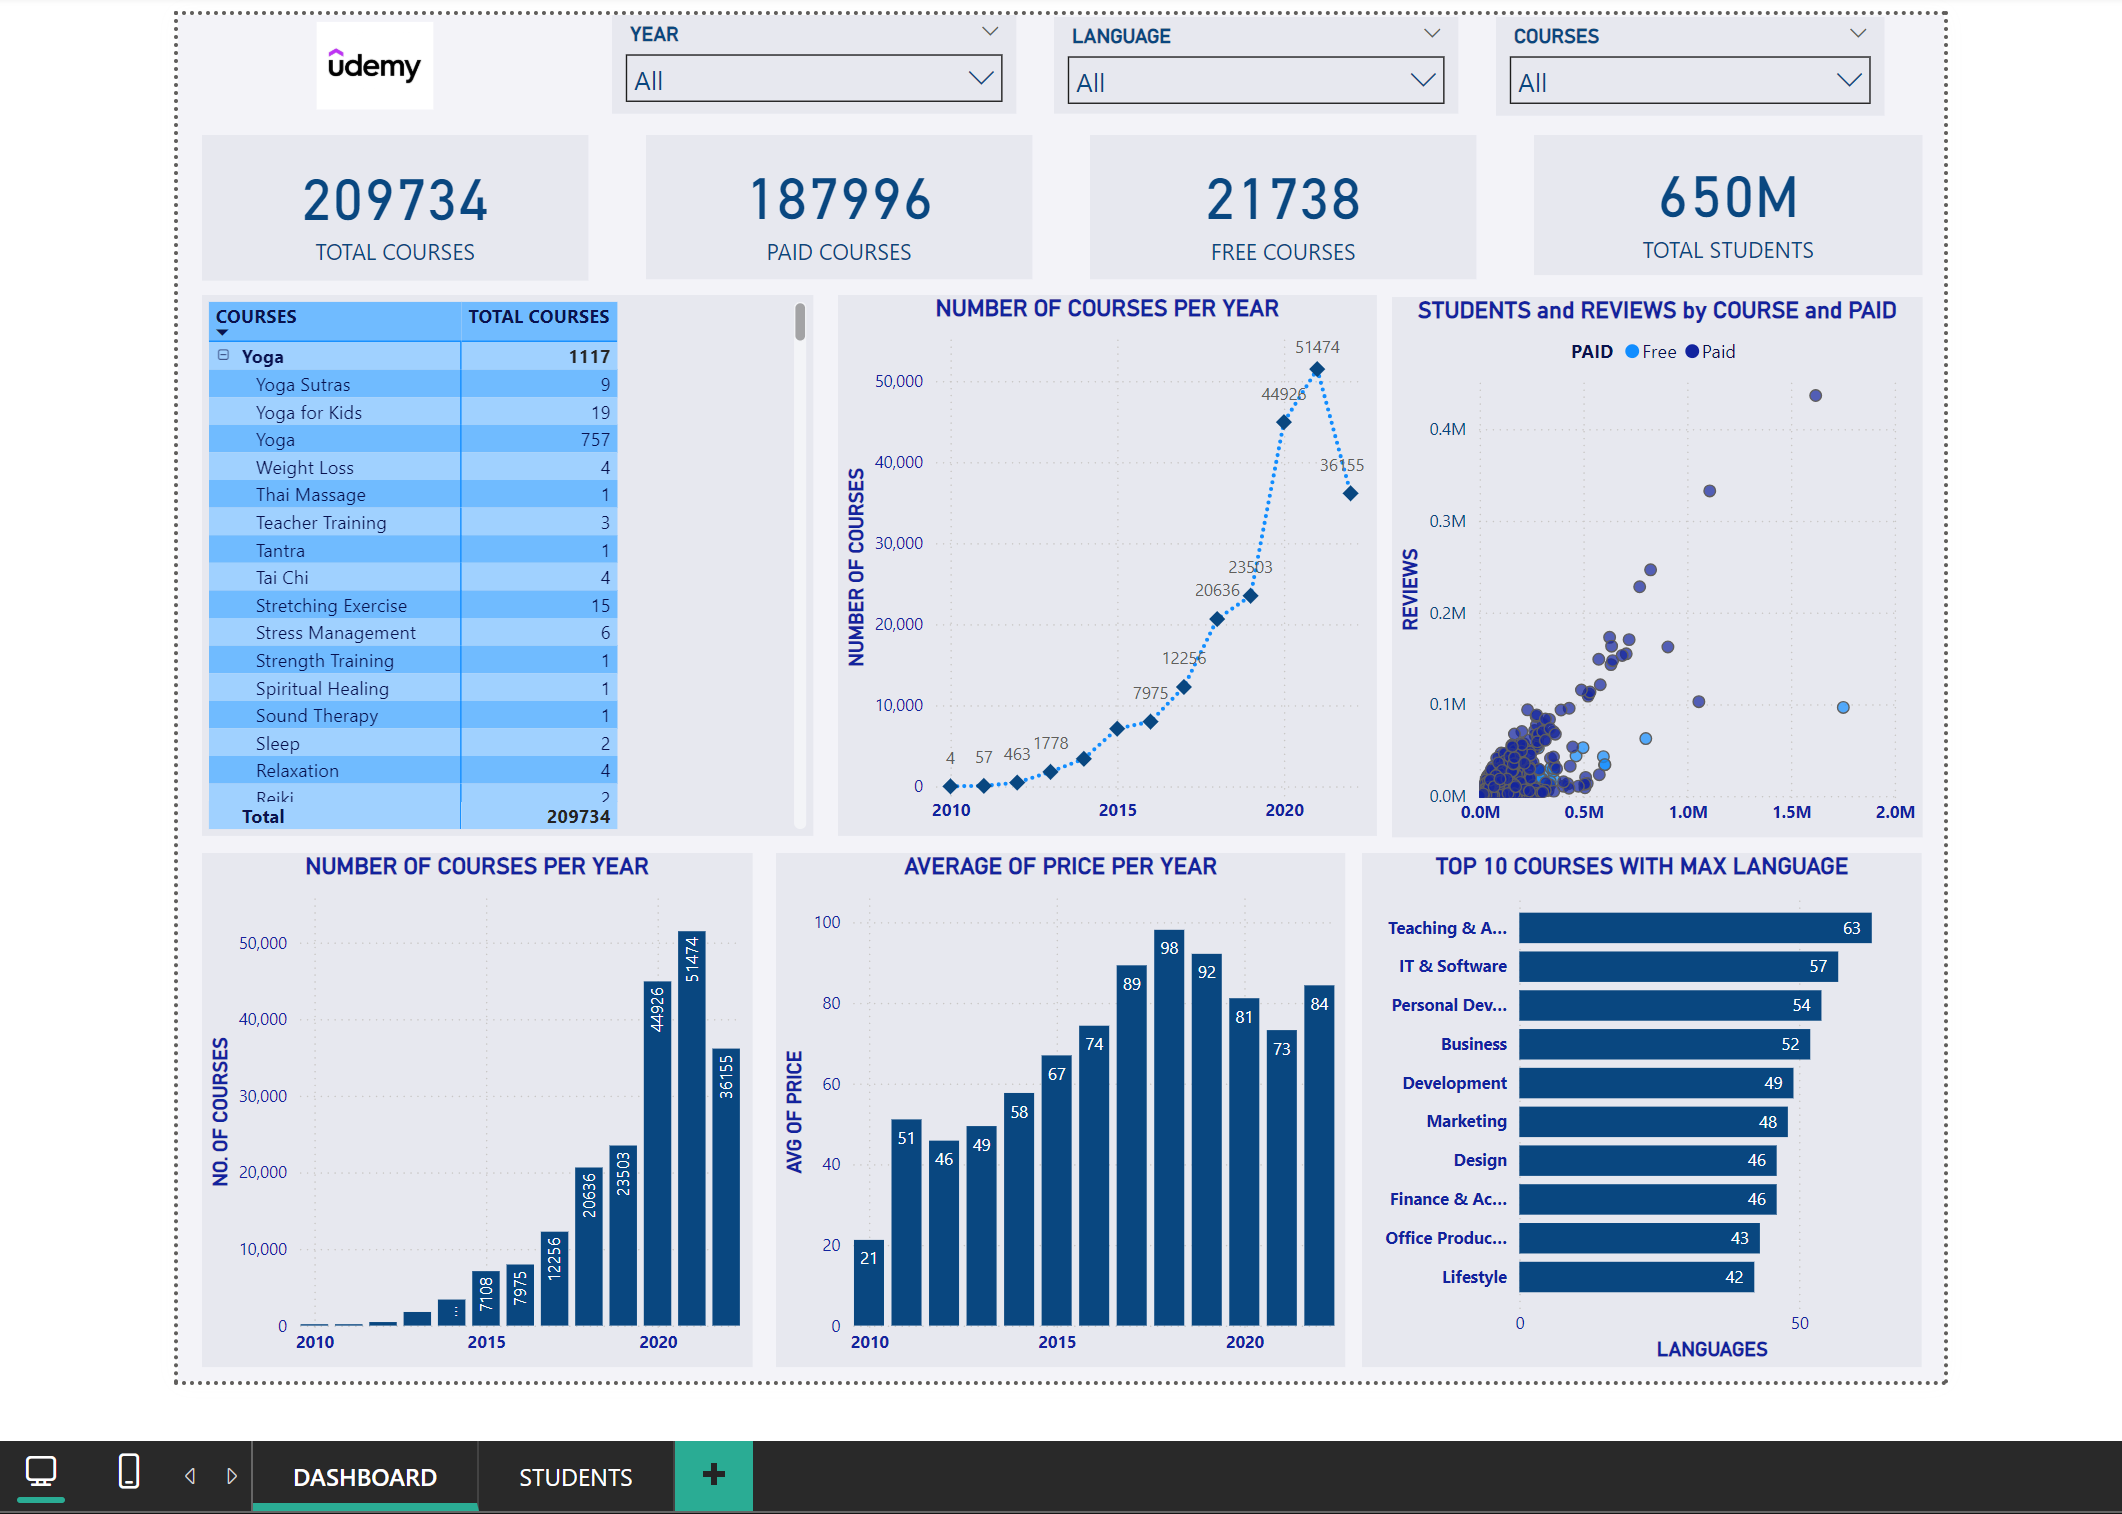

Layout of this report page (visuals, bound fields, positions):
{"tool":"powerbi","page":{"name":"DASHBOARD","canvas":[1280,990],"ordinal":0},"visuals":[{"type":"card","fields":{"Values":["CountNonNull(Course_info.id)"]},"box":[17.9,86.4,280,105.7],"z":0},{"type":"card","fields":{"Values":["CountNonNull(Course_info.id)"]},"box":[660.7,86.4,280,104.3],"z":1000},{"type":"card","fields":{"Values":["CountNonNull(Course_info.id)"]},"box":[339.3,86.4,280,104.3],"z":2000},{"type":"slicer","fields":{"Values":["Course_info.language"]},"box":[634.8,1.4,292.9,70],"z":3000},{"type":"image","box":[0,0,285.2,73.4],"z":4000},{"type":"slicer","fields":{"Values":["Course_info.category"]},"box":[955.7,1.4,281.4,71.4],"z":5000},{"type":"pivotTable","fields":{"Rows":["Course_info.subcategory","Course_info.topic"],"Values":["CountNonNull(Course_info.id)"]},"box":[18,203.5,443.1,391.8],"z":6000},{"type":"barChart","title":"TOP 10 COURSES WITH MAX LANGUAGE","fields":{"Y":["Count(Course_info.language)"],"Category":["Course_info.category"]},"box":[858.5,607.8,405.7,372.5],"z":7000},{"type":"card","fields":{"Values":["Sum(Course_info.num_subscribers)"]},"box":[982.1,86.4,281.4,101.4],"z":8000},{"type":"clusteredColumnChart","title":"NUMBER OF COURSES PER YEAR","fields":{"Y":["CountNonNull(Course_info.id)"],"Category":["Course_info.Year"]},"box":[18,607.8,398.8,372.5],"z":9000},{"type":"slicer","fields":{"Values":["Course_info.Year"]},"box":[313.8,0,292.9,71.4],"z":10000},{"type":"columnChart","title":"AVERAGE OF PRICE PER YEAR","fields":{"Y":["Avg(Course_info.price)"],"Category":["Course_info.Year"]},"box":[433.4,607.8,412.6,372.5],"z":11000},{"type":"lineChart","title":"NUMBER OF COURSES PER YEAR","fields":{"Category":["Course_info.Year"],"Y":["Count(Course_info.id)"]},"box":[477.7,203.5,390.5,391.8],"z":12000},{"type":"scatterChart","fields":{"X":["Course_info.STUDENTS"],"Y":["Course_info.num_reviews"],"Series":["Course_info.PAID"],"Category":["Course_info.title"]},"box":[880,204.3,384.3,391.4],"z":13000}]}

Visuals, with their boxes on the page's 1280x990 design canvas (x1, y1, x2, y2). These are canvas units, not pixel positions in the 2122x1514 screenshot, which may show the page scaled, cropped or inside an application window:
card - CountNonNull(Course_info.id): {"left": 18, "top": 86, "right": 298, "bottom": 192}
card - CountNonNull(Course_info.id): {"left": 661, "top": 86, "right": 941, "bottom": 191}
card - CountNonNull(Course_info.id): {"left": 339, "top": 86, "right": 619, "bottom": 191}
slicer - Course_info.language: {"left": 635, "top": 1, "right": 928, "bottom": 71}
image: {"left": 0, "top": 0, "right": 285, "bottom": 73}
slicer - Course_info.category: {"left": 956, "top": 1, "right": 1237, "bottom": 73}
pivotTable - Course_info.subcategory x Course_info.topic: {"left": 18, "top": 204, "right": 461, "bottom": 595}
"TOP 10 COURSES WITH MAX LANGUAGE" barChart: {"left": 858, "top": 608, "right": 1264, "bottom": 980}
card - Sum(Course_info.num_subscribers): {"left": 982, "top": 86, "right": 1264, "bottom": 188}
"NUMBER OF COURSES PER YEAR" clusteredColumnChart: {"left": 18, "top": 608, "right": 417, "bottom": 980}
slicer - Course_info.Year: {"left": 314, "top": 0, "right": 607, "bottom": 71}
"AVERAGE OF PRICE PER YEAR" columnChart: {"left": 433, "top": 608, "right": 846, "bottom": 980}
"NUMBER OF COURSES PER YEAR" lineChart: {"left": 478, "top": 204, "right": 868, "bottom": 595}
scatterChart - Course_info.STUDENTS x Course_info.num_reviews: {"left": 880, "top": 204, "right": 1264, "bottom": 596}
